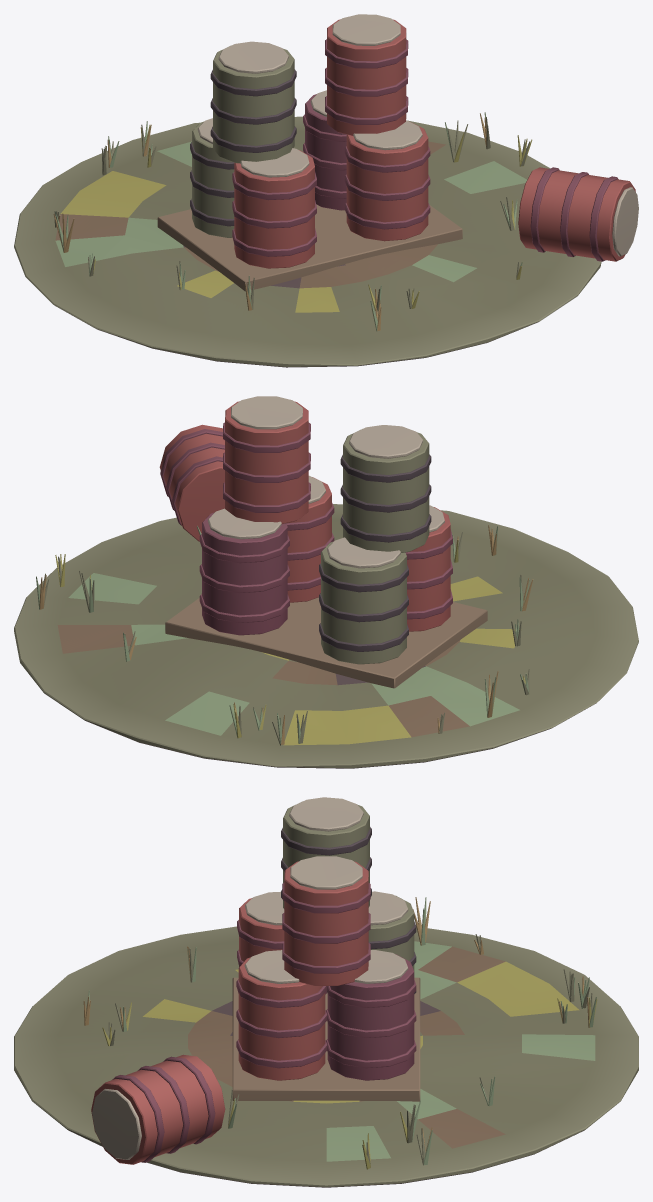
The model's file is field_props_v2.glb.
3 views of the same model, one above another, from view 1: azimuth 30°, elevation 25°; view 2: azimuth 150°, elevation 25°; view 3: azimuth 270°, elevation 25° (orthographic). The views are drawn at different scales.
Visible parts, largest first — view 1: Body; view 2: Body; view 3: Body.
Boxes of the visible parts, box(x1,y1,x2,y2) form: Body: box(14, 14, 638, 367); Body: box(14, 396, 638, 768); Body: box(14, 797, 638, 1187).
Bounding box in the file's own units: 0.6368 × 0.238 × 0.6321.
